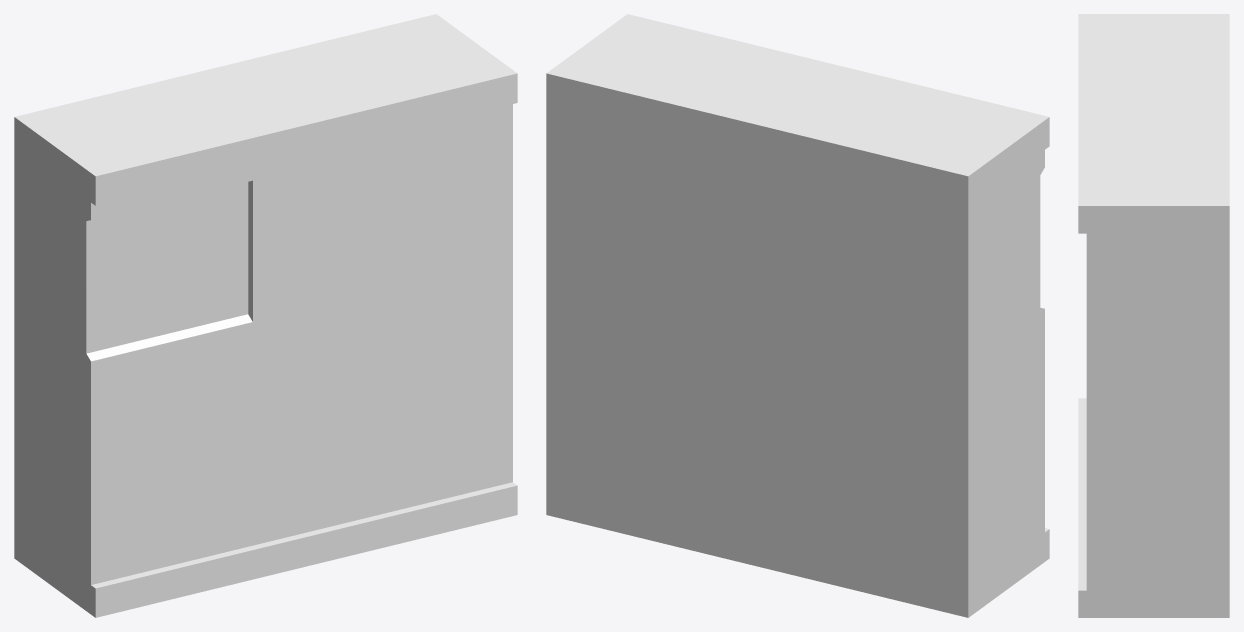
Rendered from Wall_BubbleLeft.glb.
3 renders of one model, left to right at view 1: azimuth 30°, elevation 25°; view 2: azimuth 150°, elevation 25°; view 3: azimuth 270°, elevation 25°, orthographic. The views are drawn at different scales.
Parts seen in each view (by area): view 1: Wall_BubbleLeft; view 2: Wall_BubbleLeft; view 3: Wall_BubbleLeft.
Part boxes in pixels (left/top/right/bottom): Wall_BubbleLeft: left=14, top=14, right=517, bottom=617; Wall_BubbleLeft: left=546, top=14, right=1049, bottom=617; Wall_BubbleLeft: left=1078, top=14, right=1229, bottom=617.
Bounding box in the file's own units: 3 × 3 × 1.
Materials: 1 (1 with a texture image).
